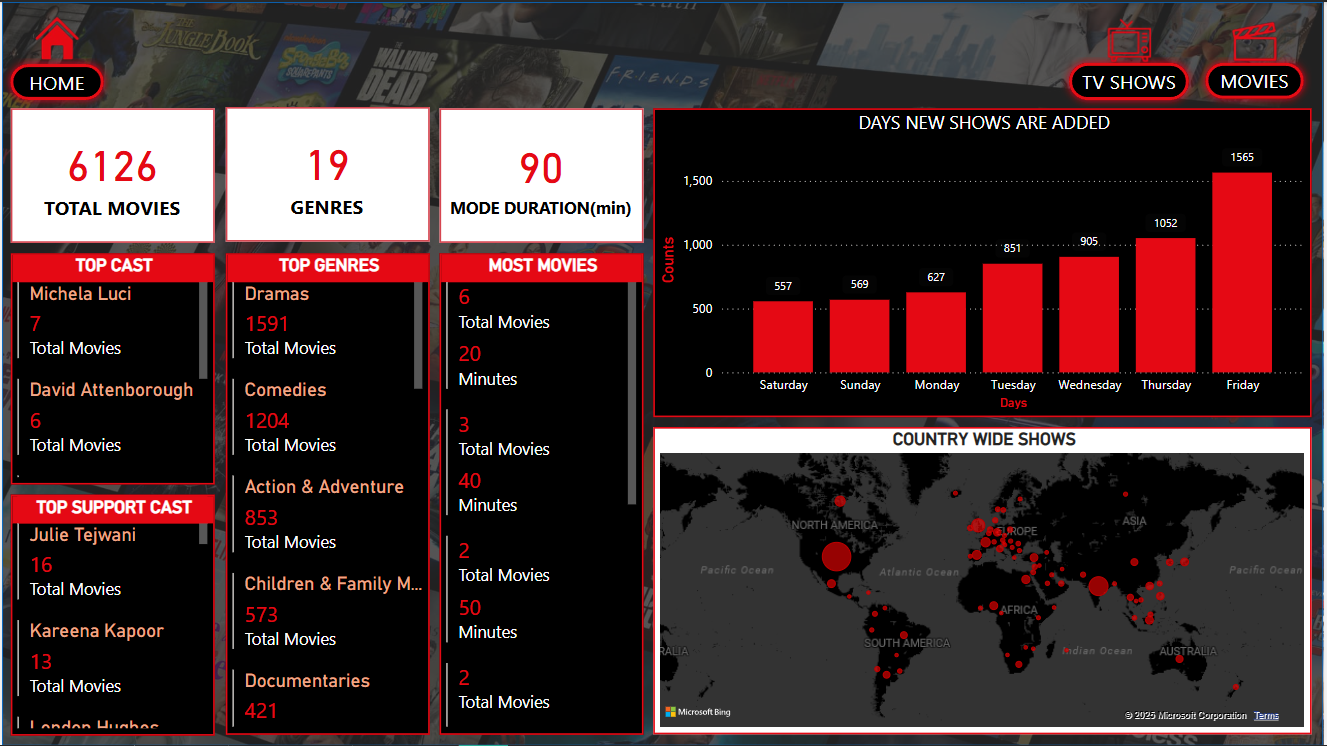

The dashboard page shown, as its layout file describes it:
{"tool":"powerbi","page":{"name":"MOVIES","canvas":[1280,720],"ordinal":2},"visuals":[{"type":"shape","box":[0,0,1279.5,720.2],"z":0},{"type":"image","box":[16.9,0,72.6,72.6],"z":1000},{"type":"shape","title":"HOME","box":[0,52.1,106.5,50.8],"z":2000},{"type":"image","box":[1055.6,0,71.4,72.6],"z":3000},{"type":"shape","title":"HOME","box":[1025.9,50.6,132.1,52.2],"z":4000},{"type":"image","box":[1173,0,79.9,72.6],"z":5000},{"type":"shape","title":"HOME","box":[1157.3,50.9,111.4,50.9],"z":6000},{"type":"multiRowCard","title":"TOP CAST","fields":{"Values":["Table.Total Movies","CLeaned_NETFLIXdata.lead_cast"]},"box":[8.5,243.3,197.3,223.9],"z":7000},{"type":"card","fields":{"Values":["Table.Total Movies"]},"box":[8.2,102.9,197.6,130.4],"z":8000},{"type":"card","fields":{"Values":["Count(CLeaned_NETFLIXdata.genre)"]},"box":[216.7,101.7,197.3,130.7],"z":9000},{"type":"multiRowCard","title":"TOP GENRES","fields":{"Values":["Table.Total Movies","CLeaned_NETFLIXdata.genre"]},"box":[216.7,243.3,197.3,466],"z":10000},{"type":"card","fields":{"Values":["Table.Mode_mOVIE_Duration"]},"box":[423.7,102.9,197.3,130.7],"z":11000},{"type":"multiRowCard","title":"MOST MOVIES","fields":{"Values":["Table.Total Movies","CLeaned_NETFLIXdata.Movie_Durations_min (bins)"]},"box":[423.7,243.3,197.3,466],"z":12000},{"type":"multiRowCard","title":"TOP SUPPORT CAST","fields":{"Values":["Table.Total Movies","CLeaned_NETFLIXdata.supporting_cast"]},"box":[8.5,476.9,197.3,233.6],"z":13000},{"type":"columnChart","title":"DAYS NEW SHOWS ARE ADDED","fields":{"Category":["CLeaned_NETFLIXdata.day_added"],"Y":["CountNonNull(CLeaned_NETFLIXdata.title)"]},"box":[630.7,102.9,637.9,299],"z":14000},{"type":"map","title":"COUNTRY WIDE SHOWS","fields":{"Category":["CLeaned_NETFLIXdata.country"],"Size":["Table.Total Movies"]},"box":[630.7,411.6,637.9,297.8],"z":15000}]}

Visuals, with their boxes in screenshot pixels (x1, y1, x2, y2), scaled from the page's 1280x720 canvas onto the 1327x746 screenshot:
shape: locate(0, 0, 1326, 745)
image: locate(18, 0, 93, 75)
"HOME" shape: locate(0, 54, 110, 107)
image: locate(1094, 0, 1168, 75)
"HOME" shape: locate(1064, 52, 1201, 107)
image: locate(1216, 0, 1299, 75)
"HOME" shape: locate(1200, 53, 1315, 105)
"TOP CAST" multiRowCard: locate(9, 252, 213, 484)
card - Table.Total Movies: locate(9, 107, 213, 242)
card - Count(CLeaned_NETFLIXdata.genre): locate(225, 105, 429, 241)
"TOP GENRES" multiRowCard: locate(225, 252, 429, 735)
card - Table.Mode_mOVIE_Duration: locate(439, 107, 644, 242)
"MOST MOVIES" multiRowCard: locate(439, 252, 644, 735)
"TOP SUPPORT CAST" multiRowCard: locate(9, 494, 213, 736)
"DAYS NEW SHOWS ARE ADDED" columnChart: locate(654, 107, 1315, 416)
"COUNTRY WIDE SHOWS" map: locate(654, 426, 1315, 735)
